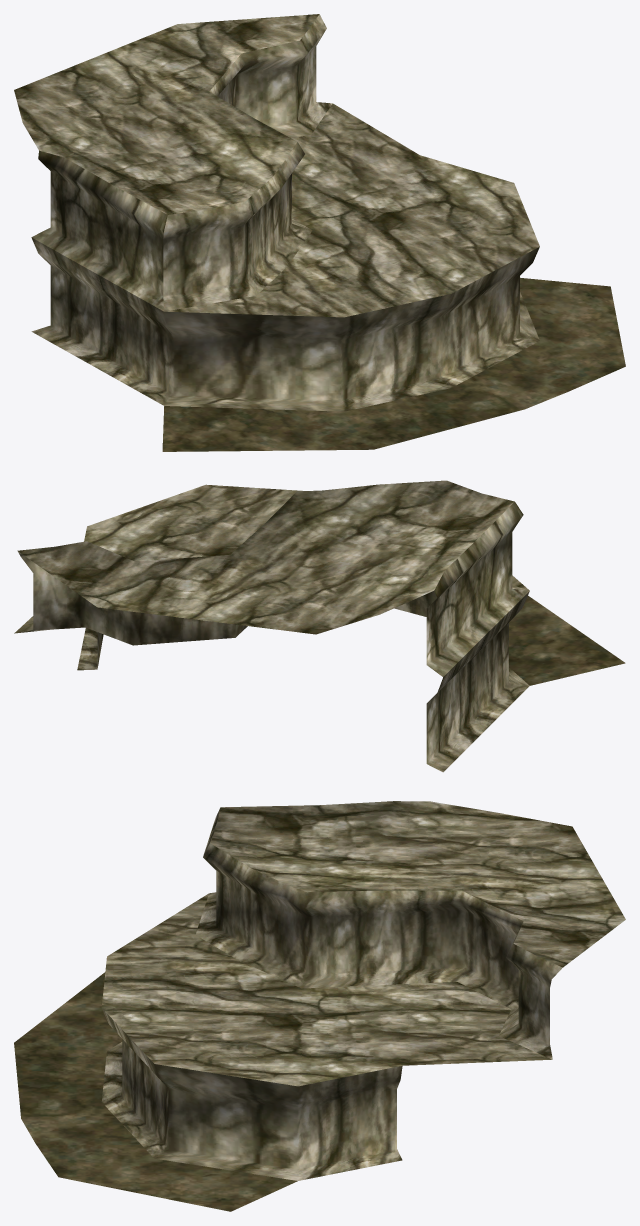
Rendered from CB_NEWPLAYSURFACE_CB_PLAYSURFACE25.fbx.
The picture shows the model from 3 angles, top to bottom: view 1: azimuth 30°, elevation 25°; view 2: azimuth 150°, elevation 25°; view 3: azimuth 270°, elevation 25°; orthographic projection.
Visible parts, largest first — view 1: CB_NEWPLAYSURFACE_CB_PLAYSURFACE25; view 2: CB_NEWPLAYSURFACE_CB_PLAYSURFACE25; view 3: CB_NEWPLAYSURFACE_CB_PLAYSURFACE25.
Boxes of the visible parts, x1,y1,x2,y2 form: CB_NEWPLAYSURFACE_CB_PLAYSURFACE25: (14,14,625,451); CB_NEWPLAYSURFACE_CB_PLAYSURFACE25: (14,480,625,772); CB_NEWPLAYSURFACE_CB_PLAYSURFACE25: (14,801,625,1211).
Size of the model in its own units: 168432 by 58720 by 175885.
Materials: 3 (3 with a texture image).
